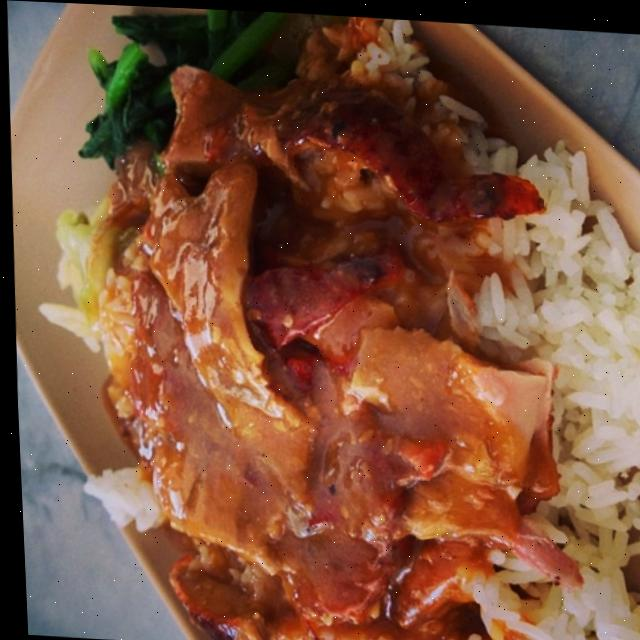米饭主食: (39, 3, 640, 640)
